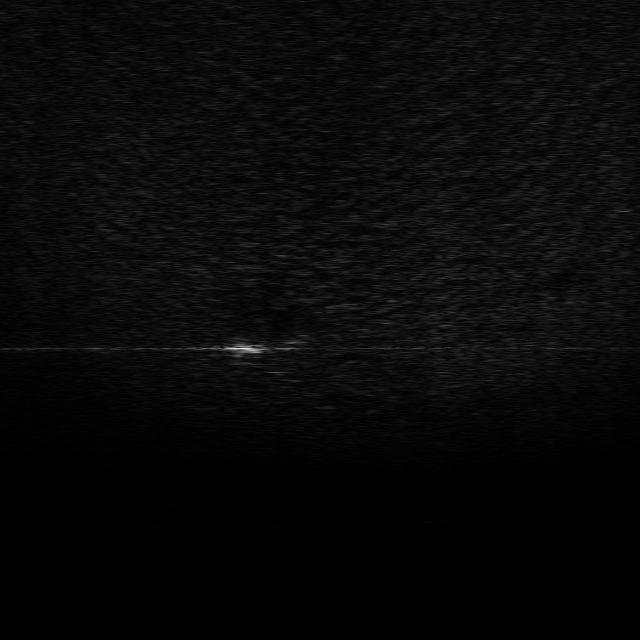plane: (222, 325, 318, 373)
